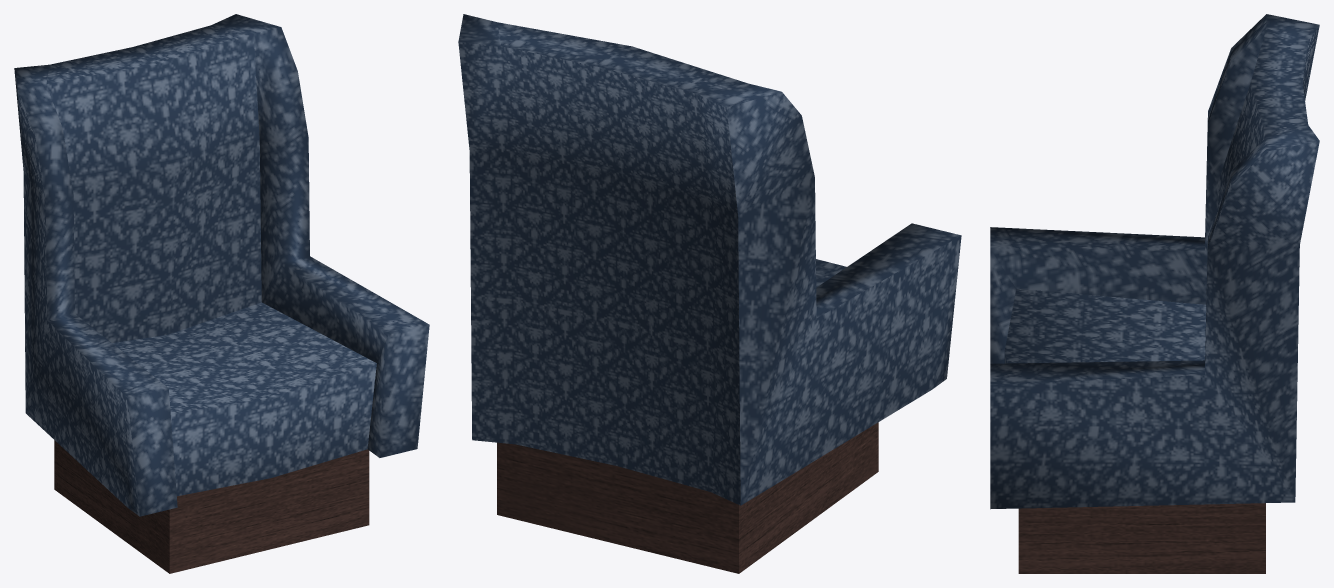
Rendered from fancy chair.fbx.
The picture shows the model from 3 angles, left to right: view 1: azimuth 30°, elevation 25°; view 2: azimuth 150°, elevation 25°; view 3: azimuth 270°, elevation 25°; orthographic projection. The views are drawn at different scales.
Parts seen in each view (by area): view 1: fancy chair, Cube.008; view 2: fancy chair, Cube.008; view 3: fancy chair, Cube.008.
Boxes of the visible parts, x1,y1,x2,y2 form: fancy chair: (14,14,429,516); Cube.008: (54,440,369,573); fancy chair: (458,14,961,505); Cube.008: (497,422,878,573); fancy chair: (990,14,1319,509); Cube.008: (1018,503,1265,573).
Size of the model in its own units: 180 by 232 by 159.
